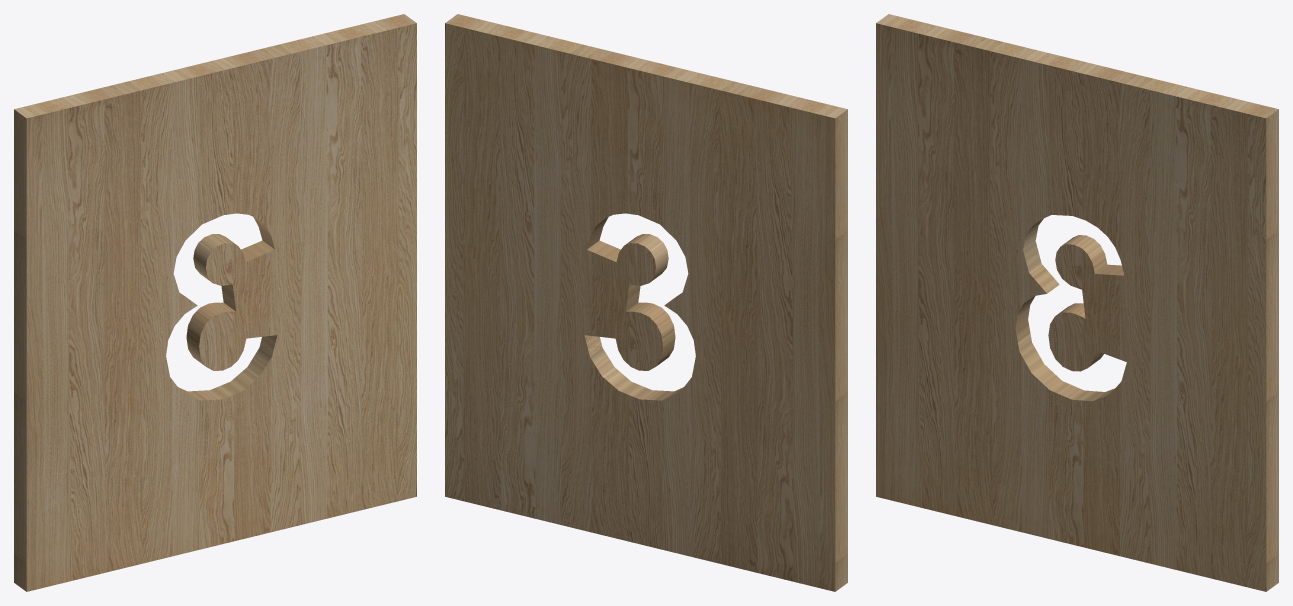
3 renders of one model, left to right at view 1: azimuth 30°, elevation 25°; view 2: azimuth 150°, elevation 25°; view 3: azimuth 330°, elevation 25°, orthographic.
Parts seen in each view (by area): view 1: so3; view 2: so3; view 3: so3.
Part boxes in pixels (x1,y1,x2,y2): so3: (14,14,416,591); so3: (445,14,847,591); so3: (876,14,1278,591).
Size of the model in its own units: 2.89 by 3.36 by 0.1618.
Materials: 1 (1 with a texture image).
